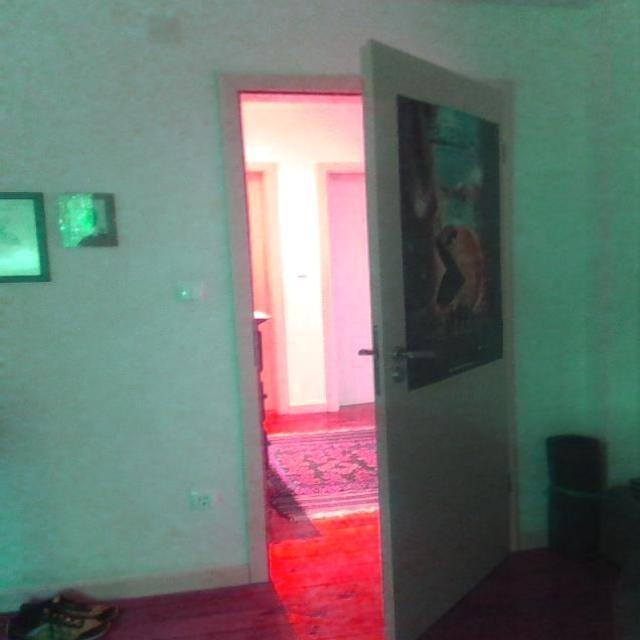door: (360, 37, 517, 638)
